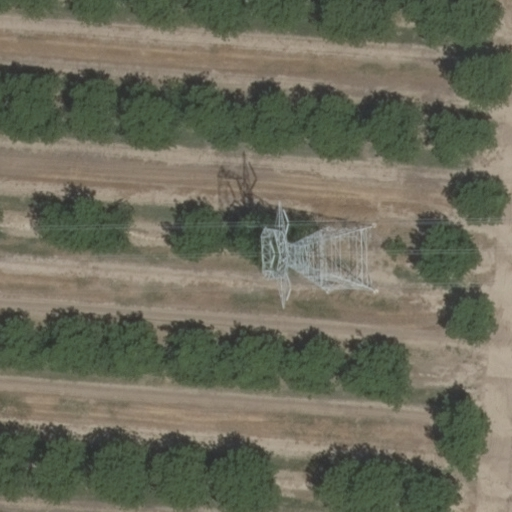TT: (250, 207, 380, 298)
